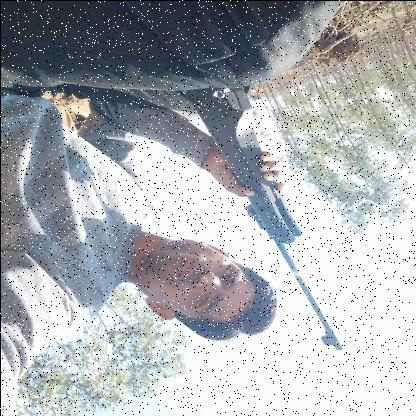rifle: (181, 82, 344, 354)
